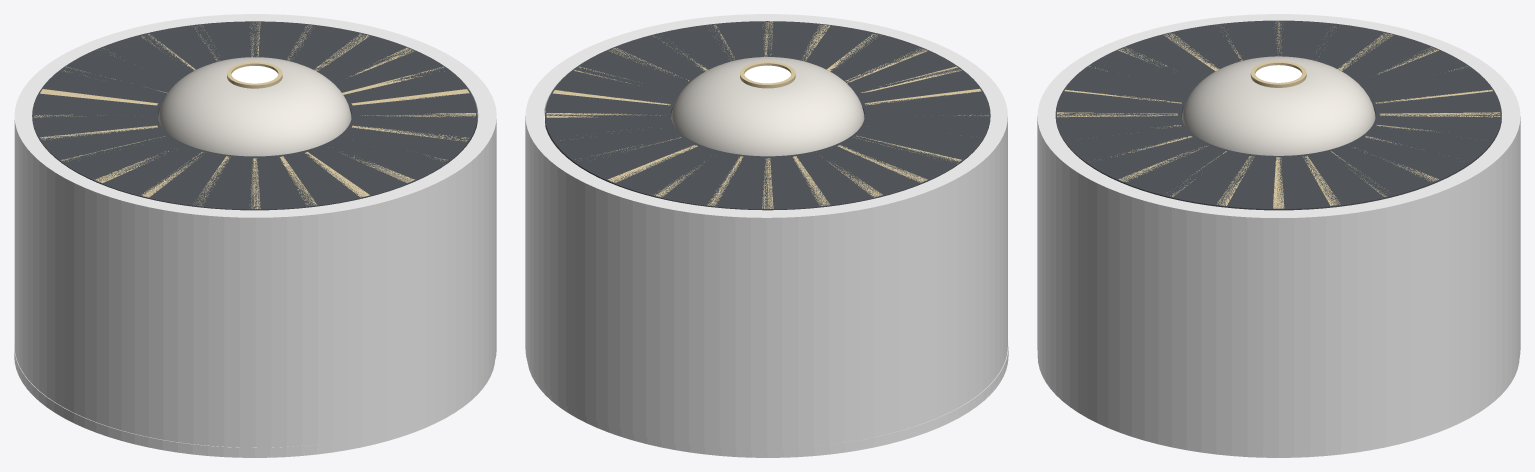
Rendered from rotunda_web.glb.
The picture shows the model from 3 angles, left to right: view 1: azimuth 30°, elevation 25°; view 2: azimuth 150°, elevation 25°; view 3: azimuth 270°, elevation 25°; orthographic projection.
Visible parts, largest first — view 1: Wall_Rotunda, Ceiling_Ring, Ceiling_Dome, Ceiling_Ring_Detail, Floor_Ground, Ceiling_Skylight, Ceiling_Oculus_Ring; view 2: Wall_Rotunda, Ceiling_Ring, Ceiling_Dome, Ceiling_Ring_Detail, Floor_Ground, Ceiling_Skylight, Ceiling_Oculus_Ring; view 3: Wall_Rotunda, Ceiling_Ring, Ceiling_Dome, Ceiling_Ring_Detail, Floor_Ground, Ceiling_Skylight, Ceiling_Oculus_Ring.
Boxes of the visible parts, x1,y1,x2,y2 form: Wall_Rotunda: [14, 14, 496, 447]; Ceiling_Ring: [32, 21, 477, 210]; Ceiling_Dome: [158, 57, 351, 156]; Ceiling_Ring_Detail: [34, 22, 475, 208]; Floor_Ground: [14, 343, 494, 457]; Ceiling_Skylight: [231, 66, 278, 83]; Ceiling_Oculus_Ring: [227, 61, 282, 88]; Wall_Rotunda: [525, 14, 1007, 451]; Ceiling_Ring: [545, 21, 990, 210]; Ceiling_Dome: [671, 57, 864, 156]; Ceiling_Ring_Detail: [546, 21, 988, 208]; Floor_Ground: [527, 341, 1008, 457]; Ceiling_Skylight: [744, 65, 790, 83]; Ceiling_Oculus_Ring: [740, 61, 795, 88]; Wall_Rotunda: [1037, 14, 1520, 451]; Ceiling_Ring: [1055, 20, 1501, 210]; Ceiling_Dome: [1182, 56, 1375, 155]; Ceiling_Ring_Detail: [1057, 21, 1500, 208]; Floor_Ground: [1037, 355, 1519, 457]; Ceiling_Skylight: [1255, 65, 1301, 82]; Ceiling_Oculus_Ring: [1250, 61, 1306, 87].
Size of the model in its own units: 19.42 by 12.55 by 19.4.
